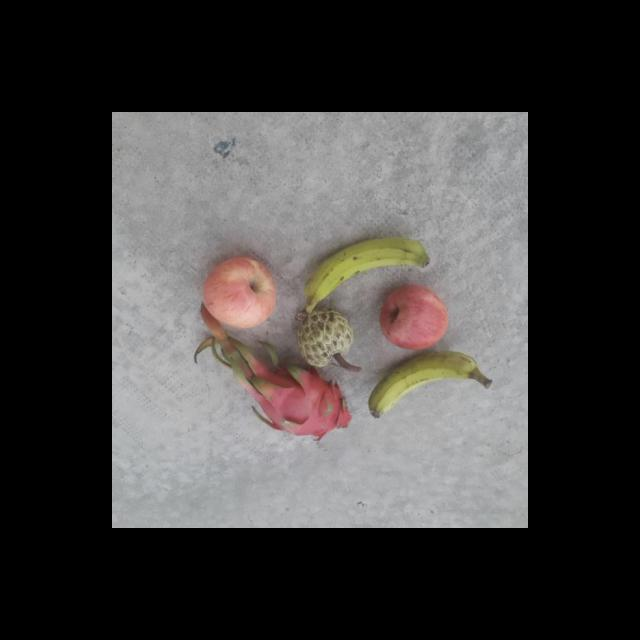Sakya fruit: (298, 307, 360, 370)
apple: (199, 252, 278, 332), (372, 284, 457, 356)
banana: (362, 352, 496, 423), (302, 238, 436, 305)
pitaya: (248, 372, 356, 445)
